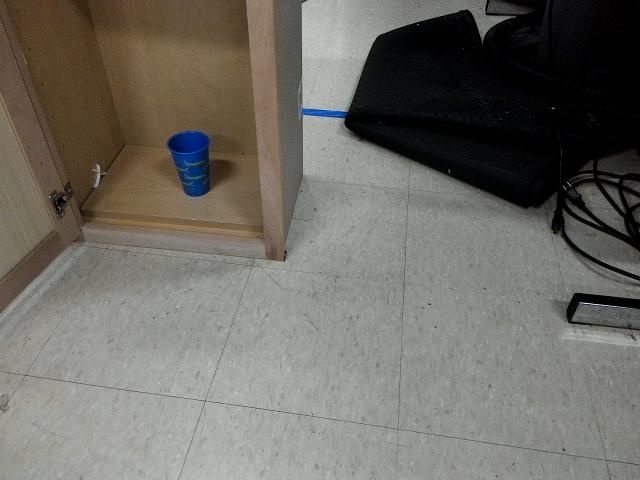water_cup: (164, 125, 219, 199)
